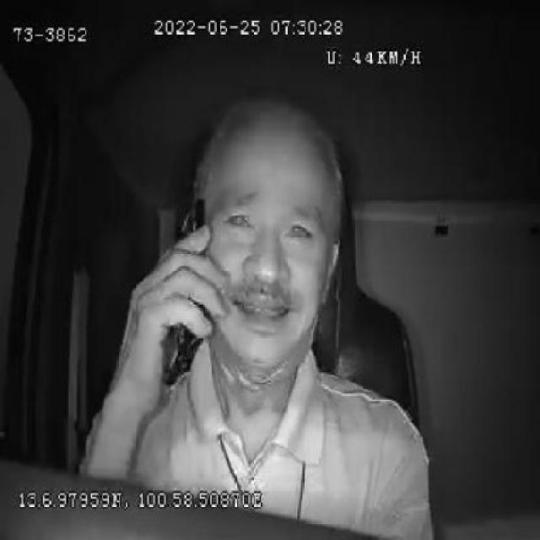phone: (159, 199, 210, 387)
